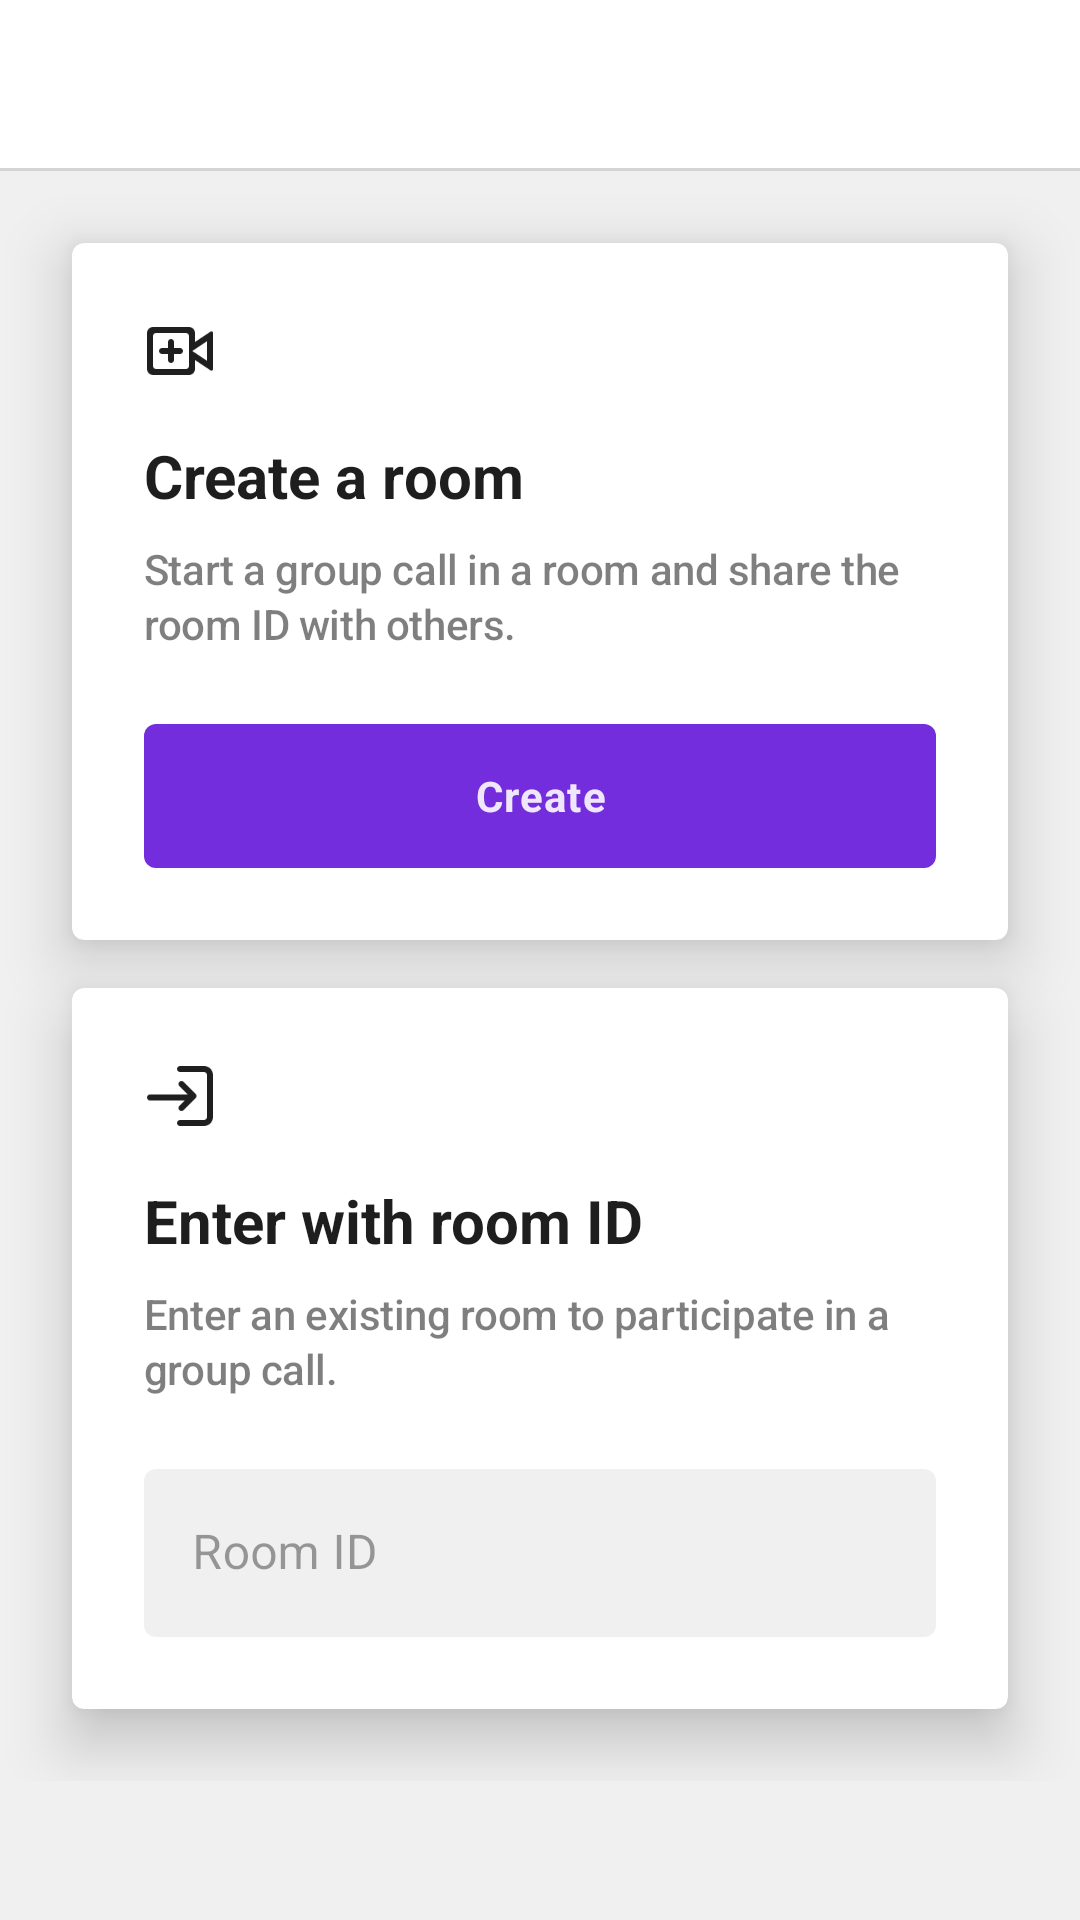

Icons on this 1080 × 1920 Android screen, each with the point to tap as point (x, y):
join: point (180, 1096)
room add: point (180, 351)
